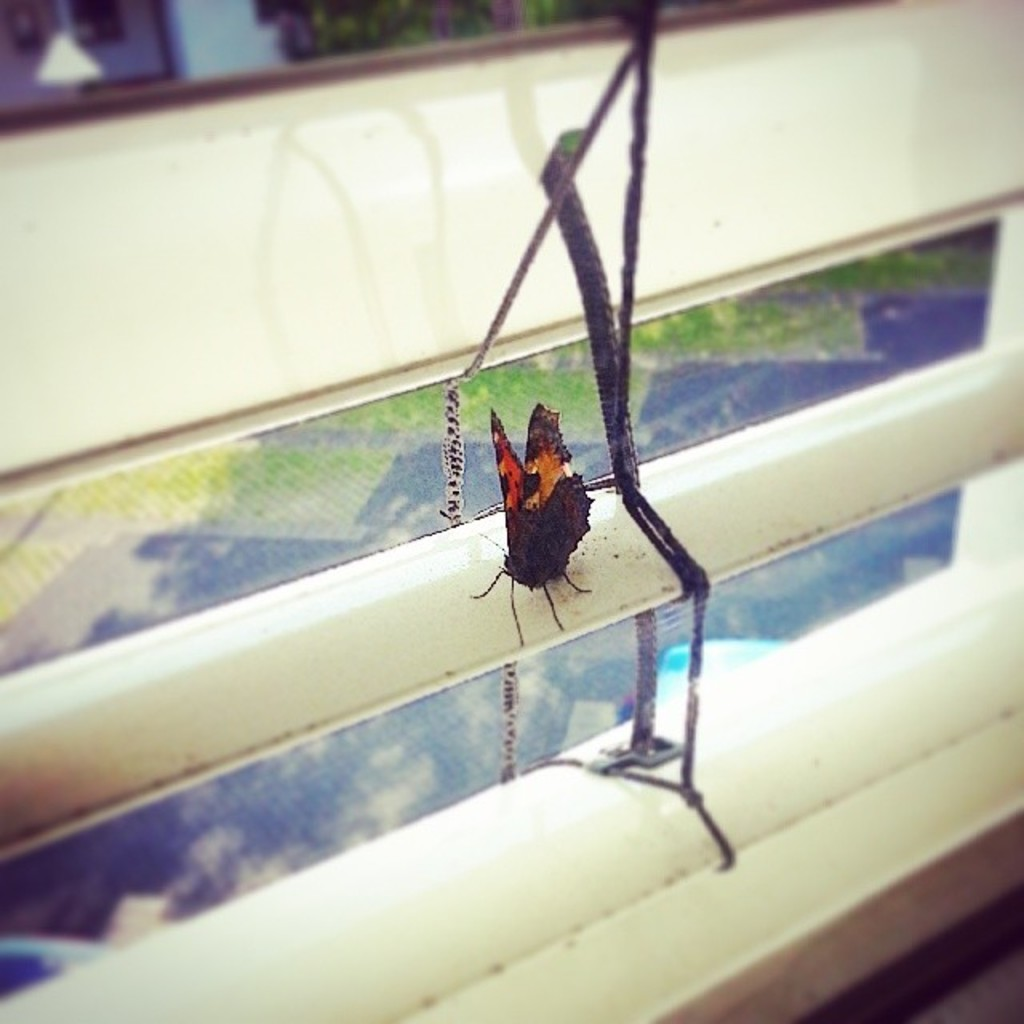Butterfly: (458, 391, 615, 645)
